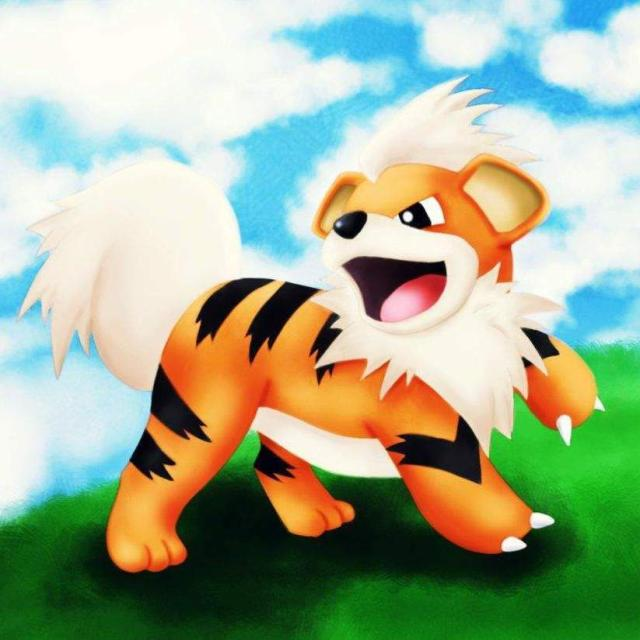Growlithe: (92, 137, 594, 580)
